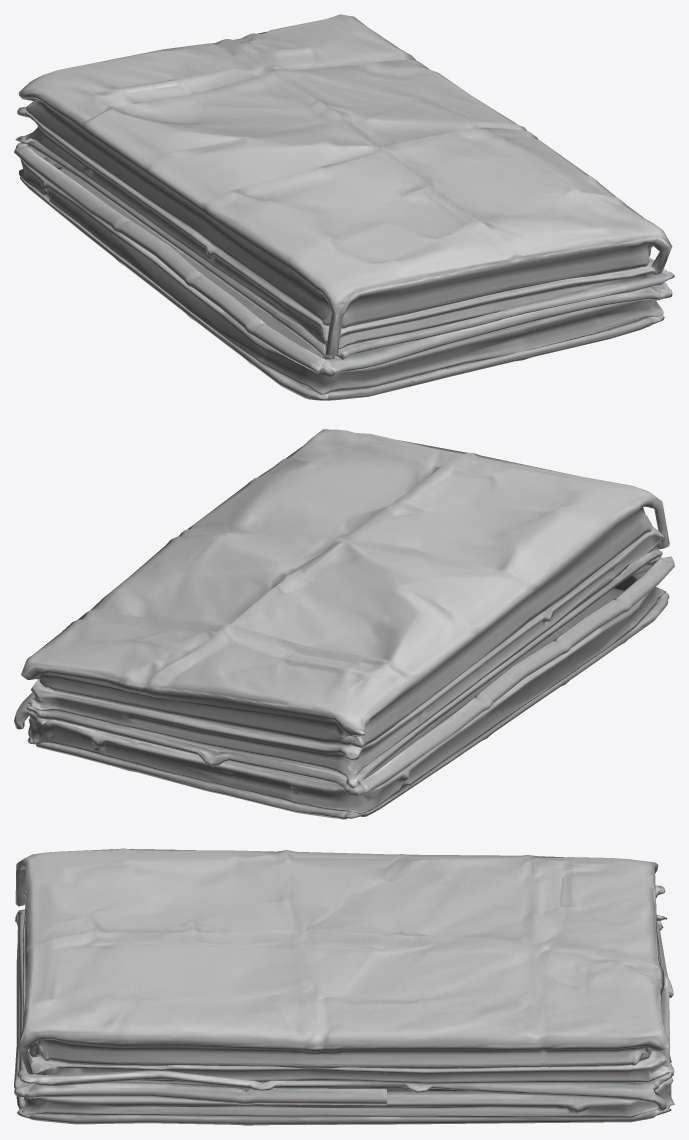
Rendered from tripo_convert_57c1c367-9a55-48dd-9496-5bf6d1dcbce0.glb.
3 renders of one model, top to bottom at view 1: azimuth 30°, elevation 25°; view 2: azimuth 150°, elevation 25°; view 3: azimuth 270°, elevation 25°, orthographic. The views are drawn at different scales.
Parts seen in each view (by area): view 1: tripo_node_57c1c367-9a55-48dd-9496-5bf6d1dcbce0; view 2: tripo_node_57c1c367-9a55-48dd-9496-5bf6d1dcbce0; view 3: tripo_node_57c1c367-9a55-48dd-9496-5bf6d1dcbce0.
Part boxes in pixels (box(x1,y1,x2,y2)): tripo_node_57c1c367-9a55-48dd-9496-5bf6d1dcbce0: box(14, 14, 674, 400); tripo_node_57c1c367-9a55-48dd-9496-5bf6d1dcbce0: box(14, 429, 674, 819); tripo_node_57c1c367-9a55-48dd-9496-5bf6d1dcbce0: box(14, 848, 674, 1125).
Bounding box in the file's own units: 0.6724 × 0.2134 × 0.9995.
1 material, 1 textured.
